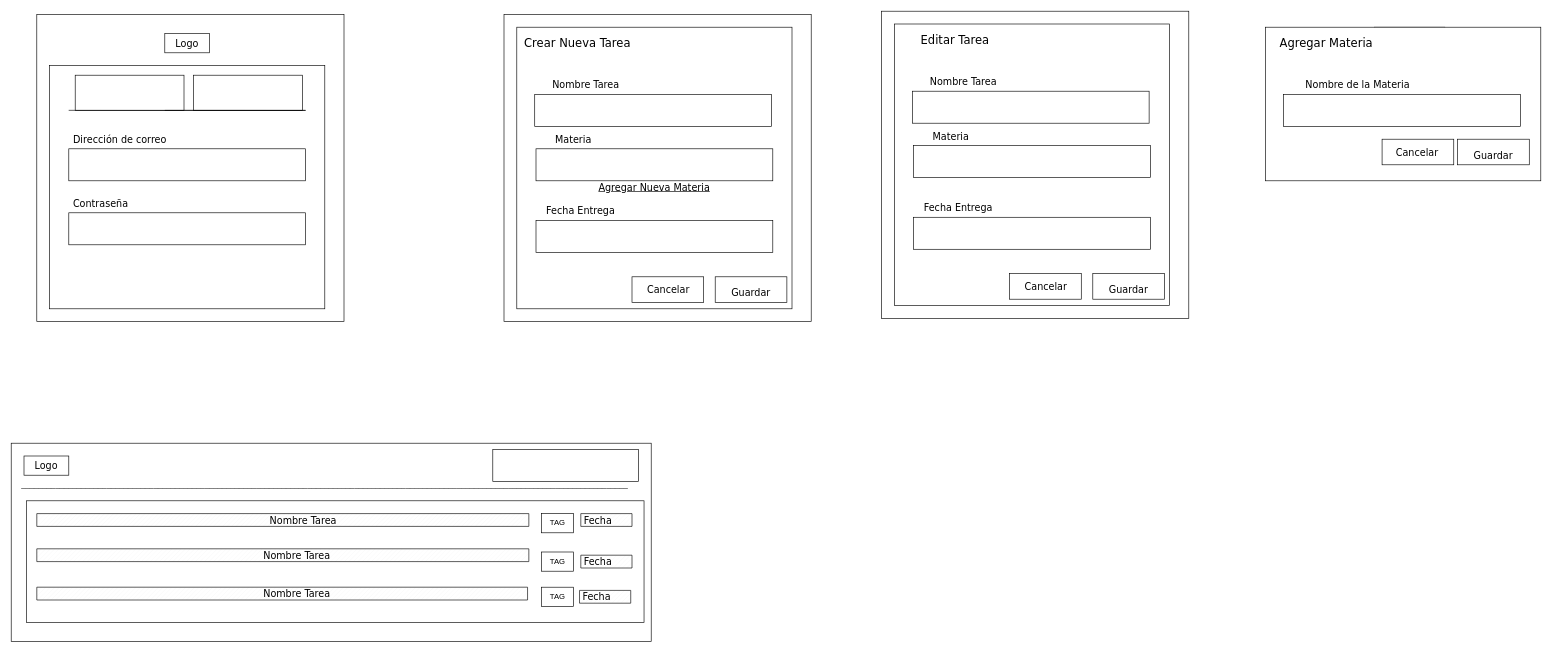
The diagram is 1552 pixels wide and 653 high, and some of its shapes have lost their labels. The shapes that lost their labels are listed below. From the top down, each one's centre as x and y in pixels, then its label:
the point at 129,92: Iniciar Sesion
the point at 247,92: Registrarte
the point at 565,465: Volver Dashboard
